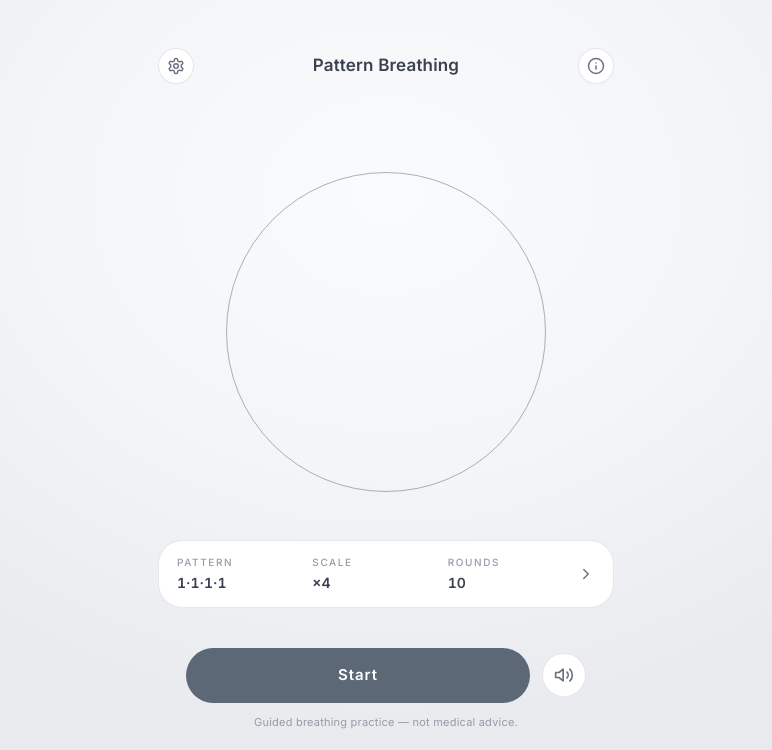
Test: App locale switching (Phase 19) › switches UI strings + documentElement.lang when LanguagePicker PT-BR is clicked
Click the button named "Settings" at [176, 66], box x1=158 y1=48 x2=194 y2=84
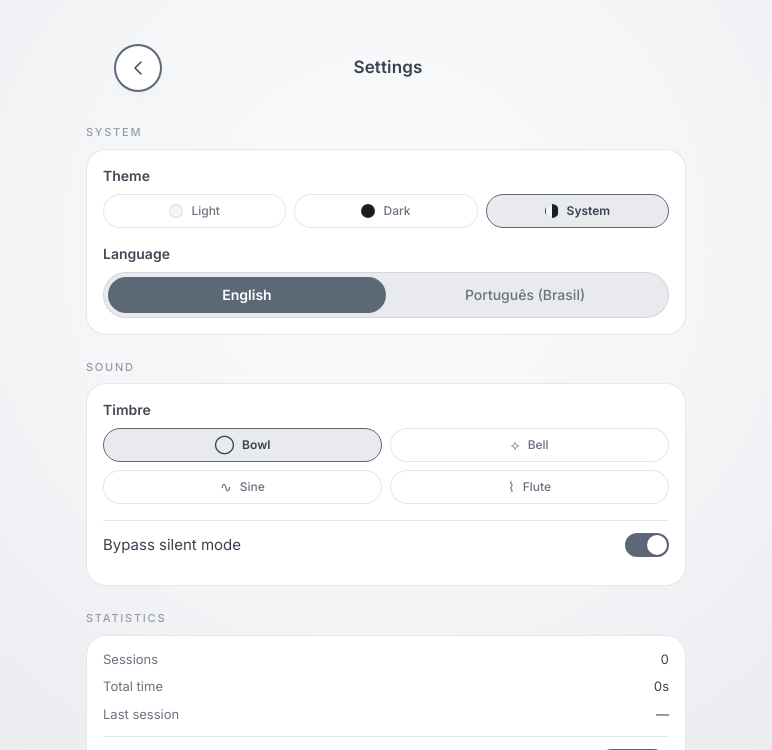
// Find PT-BR radio button (native endonym — always 'Português (Brasil)' regardless of UI locale)
Click the radio button labelled "Português (Brasil)" at [525, 294], box x1=386 y1=276 x2=664 y2=312
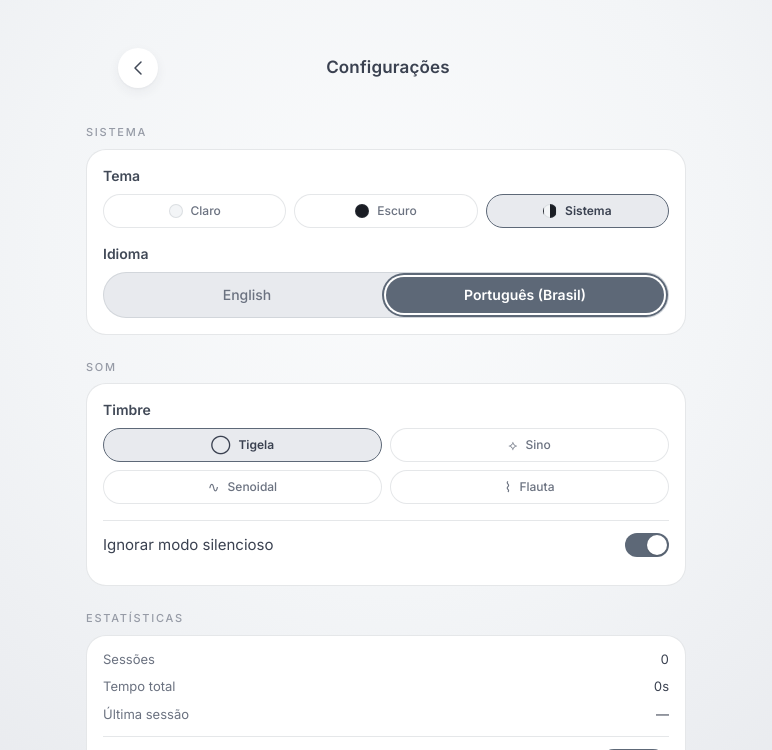
Click the button named "Fechar" at [138, 68], box x1=118 y1=48 x2=158 y2=88
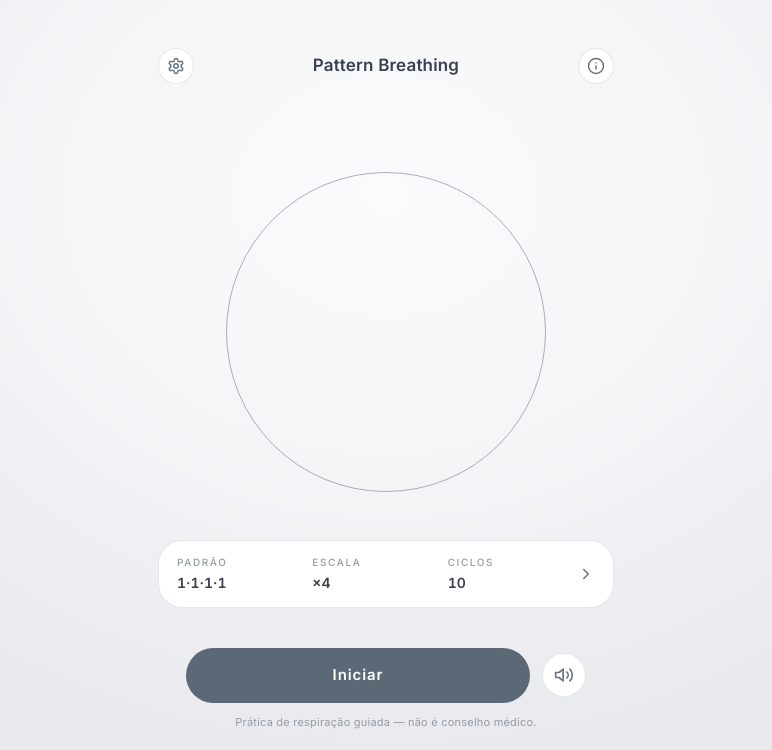
Now the button "Iniciar" is shown, box x1=186 y1=648 x2=530 y2=702
